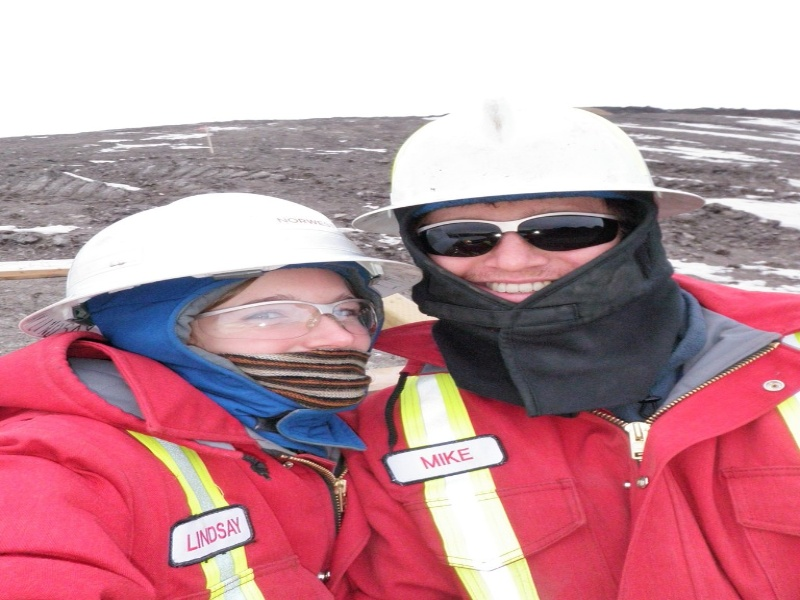helmet: (65, 191, 375, 276), (392, 100, 656, 199)
jacket: (385, 348, 797, 598), (5, 338, 366, 594), (26, 346, 346, 599)
